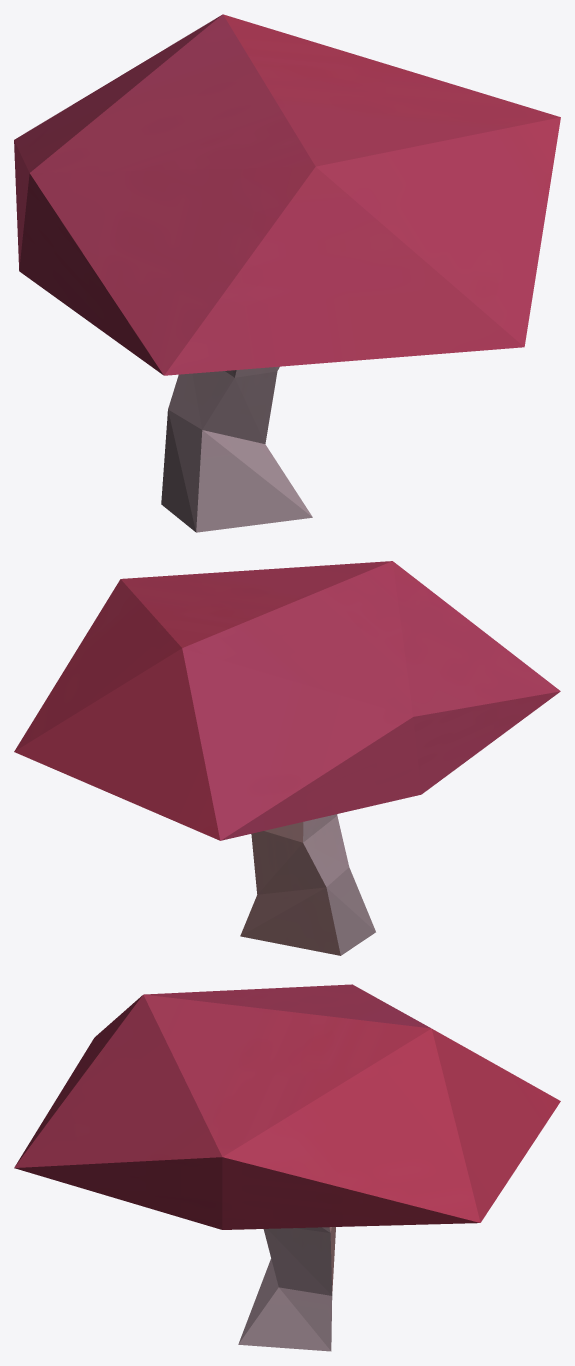
Rendered from TheShroom.fbx.
3 views of the same model, one above another, from view 1: azimuth 30°, elevation 25°; view 2: azimuth 150°, elevation 25°; view 3: azimuth 270°, elevation 25° (orthographic). The views are drawn at different scales.
Visible parts, largest first — view 1: Shroom; view 2: Shroom; view 3: Shroom.
Boxes of the visible parts, <box> form: Shroom: <box>14,14,560,532</box>; Shroom: <box>14,561,560,955</box>; Shroom: <box>14,984,560,1351</box>.
Bounding box in the file's own units: 39.2 × 32.07 × 48.45.
